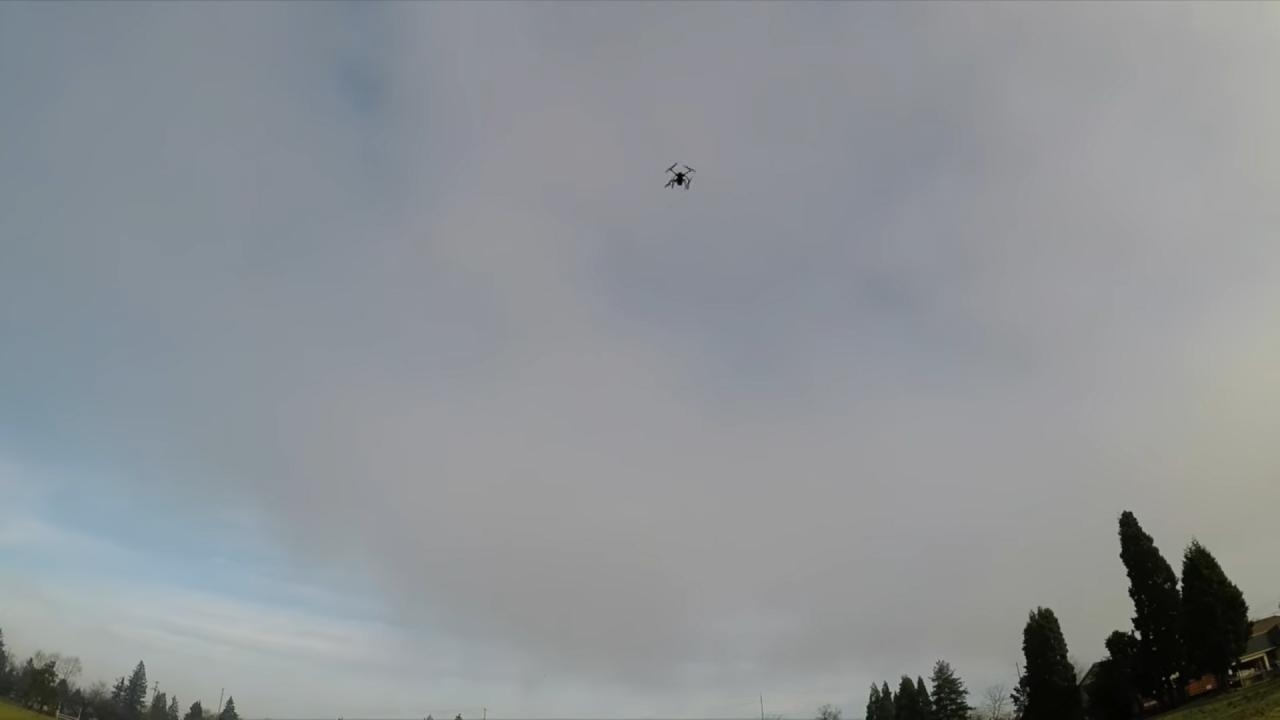Drone: (657, 159, 699, 195)
